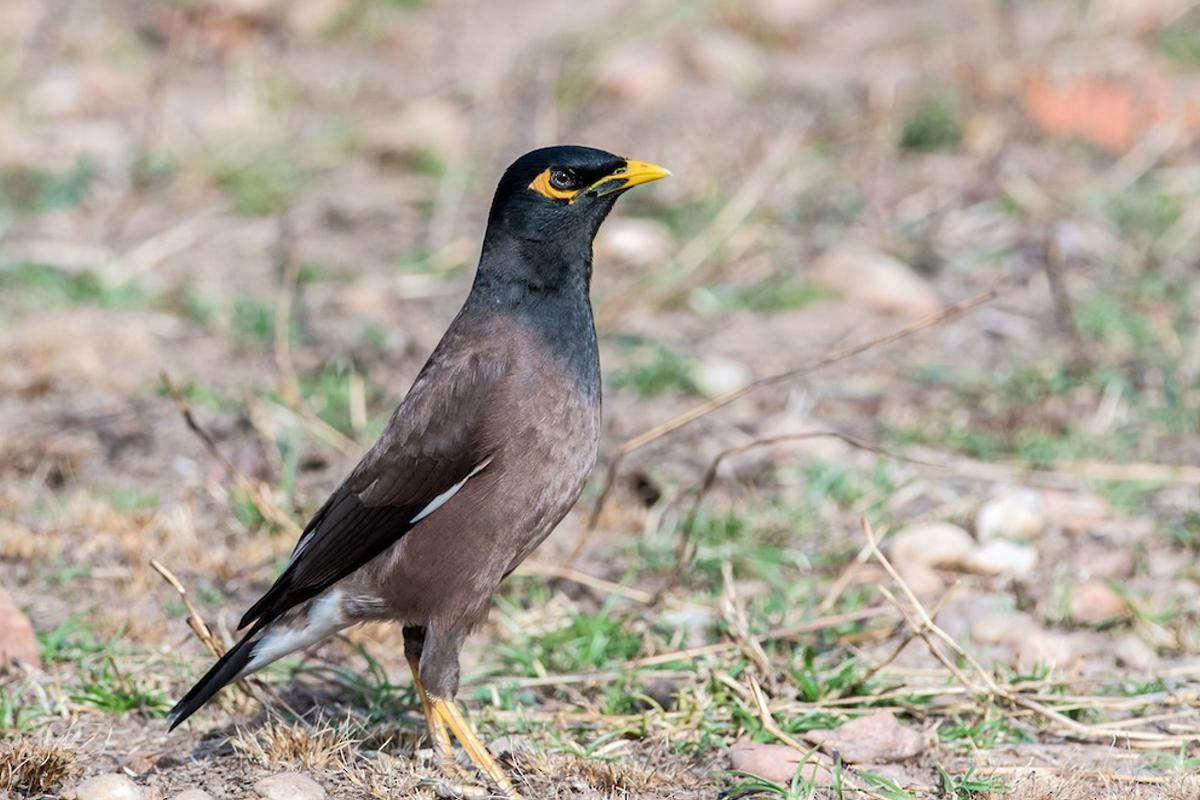myna: (143, 104, 700, 774)
